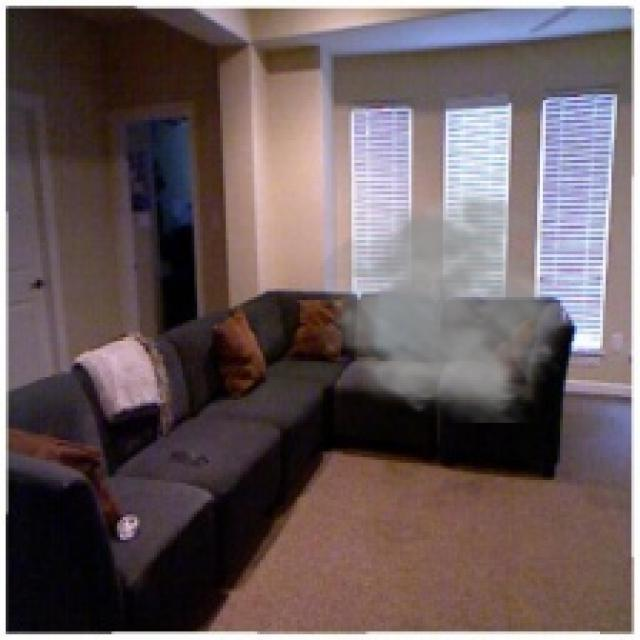Smoke: (314, 177, 572, 423)
